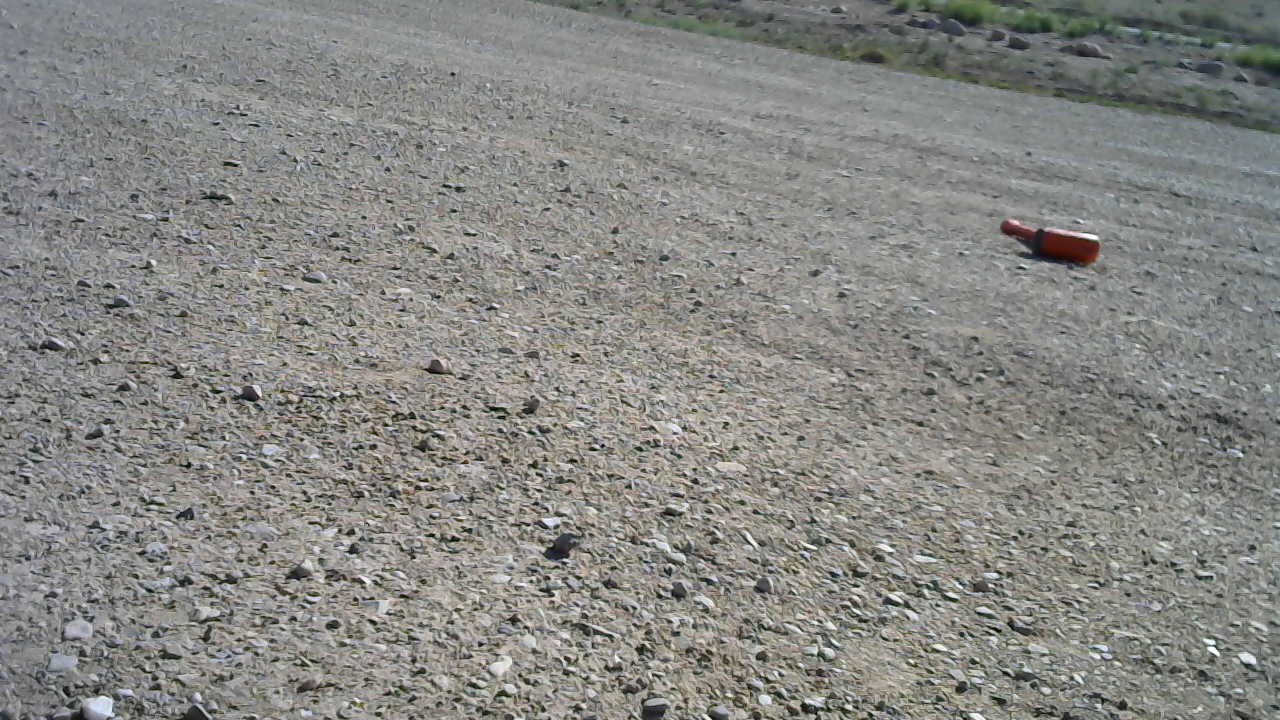hammer: (997, 216, 1101, 261)
